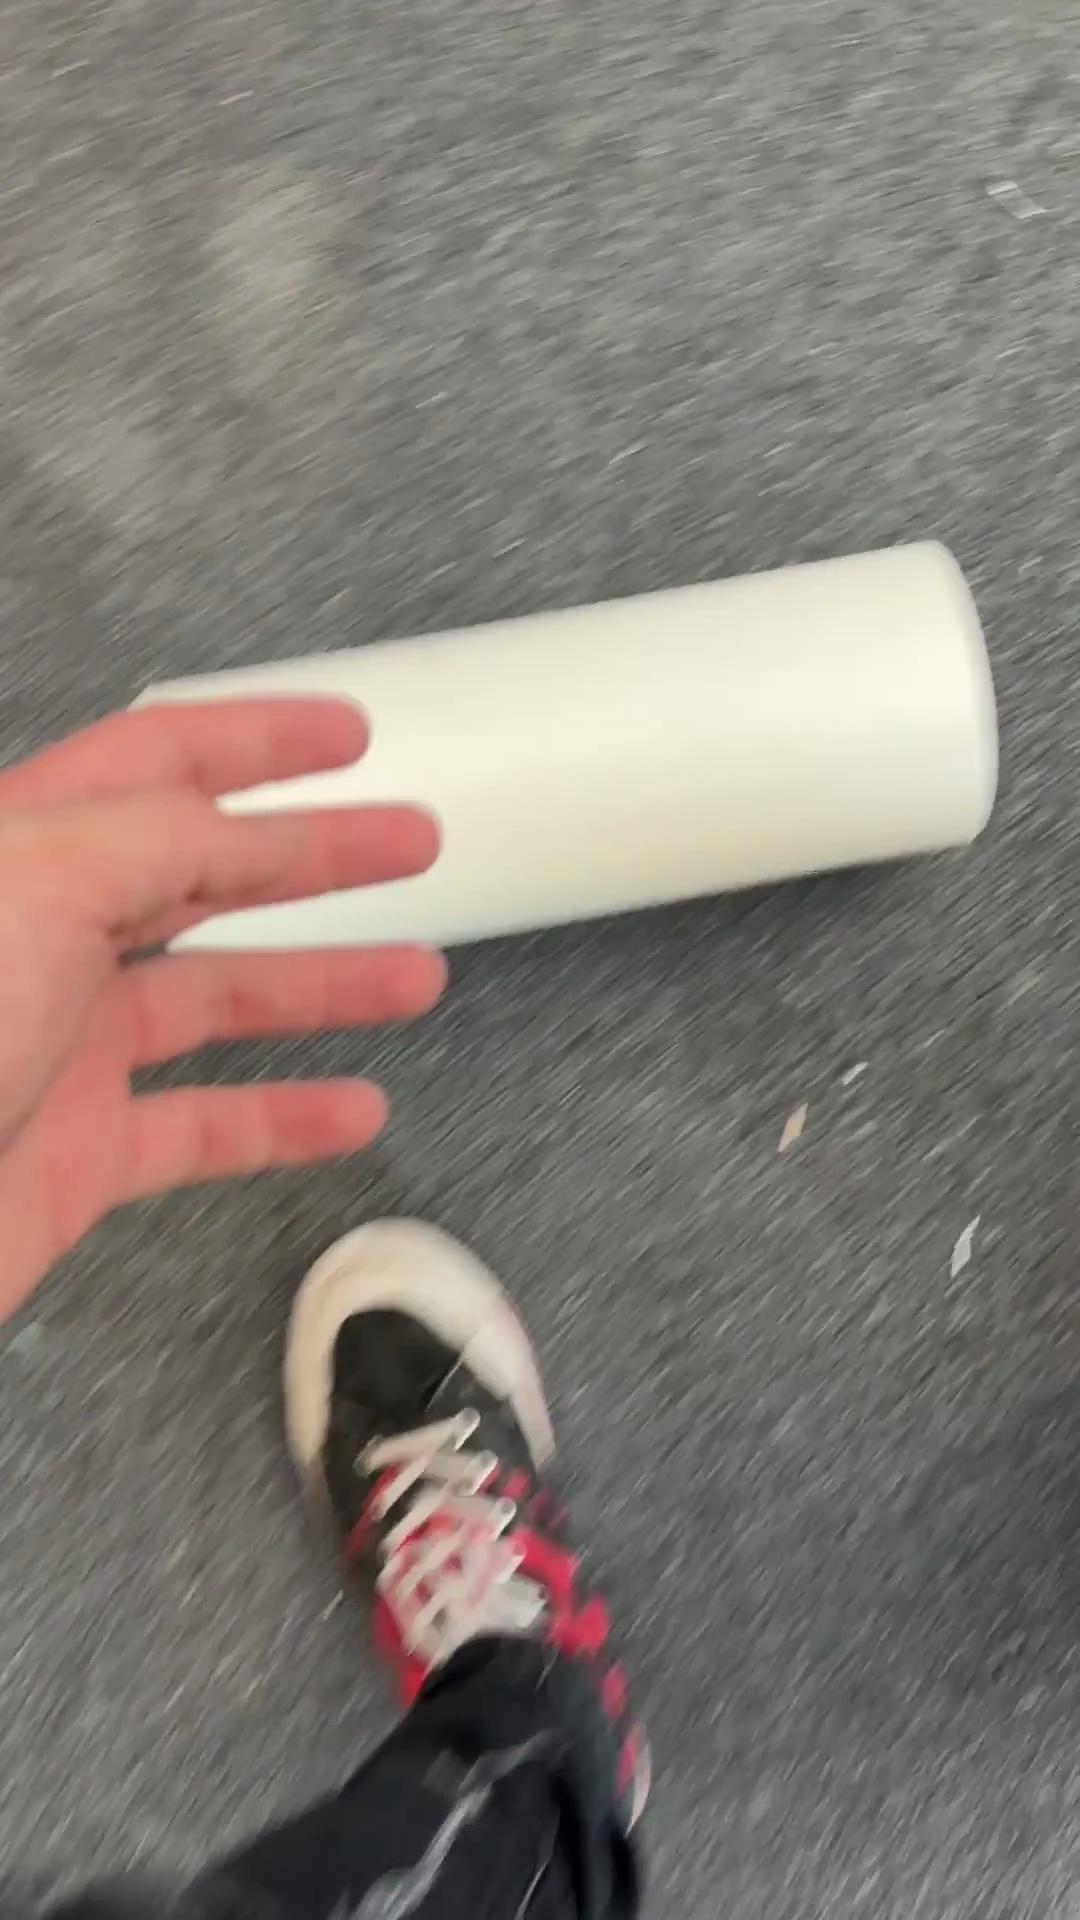CORAL: (120, 534, 1001, 957)
